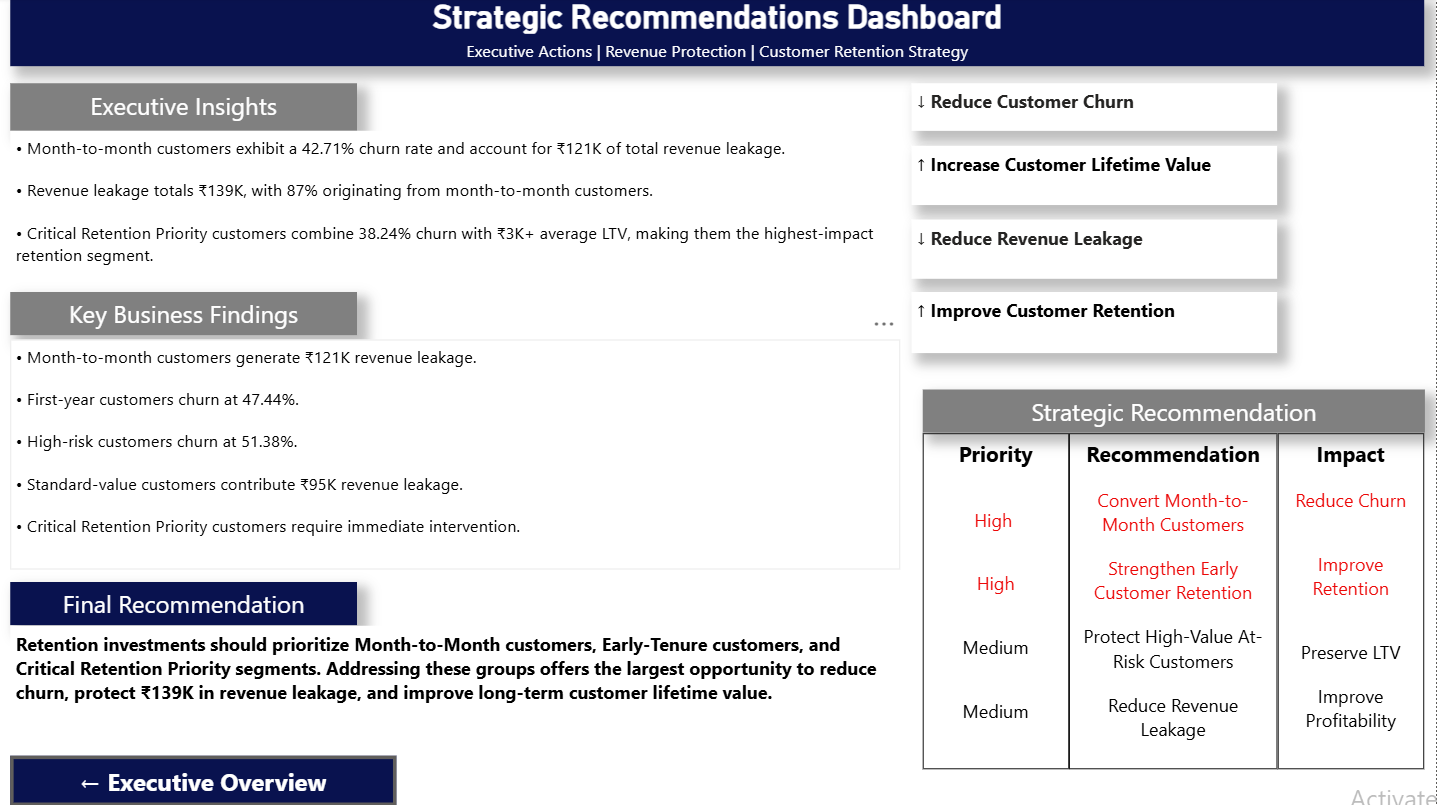

The page's visual inventory and layout, read from the dashboard file:
{"tool":"powerbi","page":{"name":"Strategic Recommendations","canvas":[1280,720],"ordinal":4},"visuals":[{"type":"actionButton","box":[9.7,675.6,343.8,44.6],"z":0},{"type":"textbox","title":"Strategic Recommendations Dashboard","box":[9.7,0,1259.5,61.5],"z":1000},{"type":"textbox","box":[9.7,77.2,308.8,42.2],"z":2000},{"type":"textbox","box":[9.7,119.4,792.6,131.5],"z":3000},{"type":"textbox","box":[9.7,263,308.8,38.6],"z":4000},{"type":"textbox","box":[9.7,305.2,792.6,205.1],"z":5000},{"type":"textbox","box":[822.8,388.5,130.3,299.2],"z":7000},{"type":"textbox","box":[953.1,388.5,185.8,299.2],"z":8000},{"type":"textbox","box":[1138.9,388.5,130.3,299.2],"z":9000},{"type":"textbox","box":[822.8,349.9,447.6,38.6],"z":10000},{"type":"textbox","box":[9.7,521.2,308.8,38.6],"z":11000},{"type":"textbox","box":[9.7,559.8,793.8,92.9],"z":12000},{"type":"textbox","box":[813.1,77.2,325.7,42.2],"z":13000},{"type":"textbox","box":[813.1,132.7,325.7,53.1],"z":14000},{"type":"textbox","box":[813.1,197.9,325.7,53.1],"z":14001},{"type":"textbox","box":[813.1,263,325.7,54.3],"z":14002}]}

Visuals, with their boxes in screenshot pixels (x1, y1, x2, y2), scaled from the page's 1280x720 canvas onto the 1437x805 screenshot:
actionButton: select_region(11, 755, 397, 804)
"Strategic Recommendations Dashboard" textbox: select_region(11, 0, 1425, 69)
textbox: select_region(11, 86, 358, 133)
textbox: select_region(11, 133, 901, 281)
textbox: select_region(11, 294, 358, 337)
textbox: select_region(11, 341, 901, 571)
textbox: select_region(924, 434, 1070, 769)
textbox: select_region(1070, 434, 1279, 769)
textbox: select_region(1279, 434, 1425, 769)
textbox: select_region(924, 391, 1426, 434)
textbox: select_region(11, 583, 358, 626)
textbox: select_region(11, 626, 902, 730)
textbox: select_region(913, 86, 1278, 133)
textbox: select_region(913, 148, 1278, 208)
textbox: select_region(913, 221, 1278, 281)
textbox: select_region(913, 294, 1278, 355)
